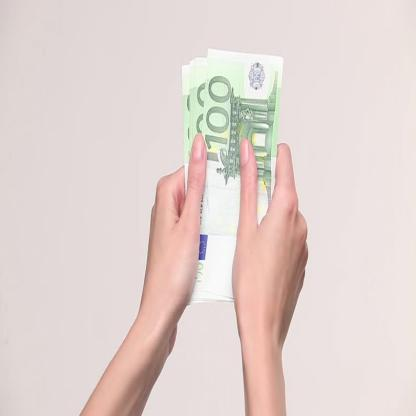billete: (180, 46, 284, 307)
